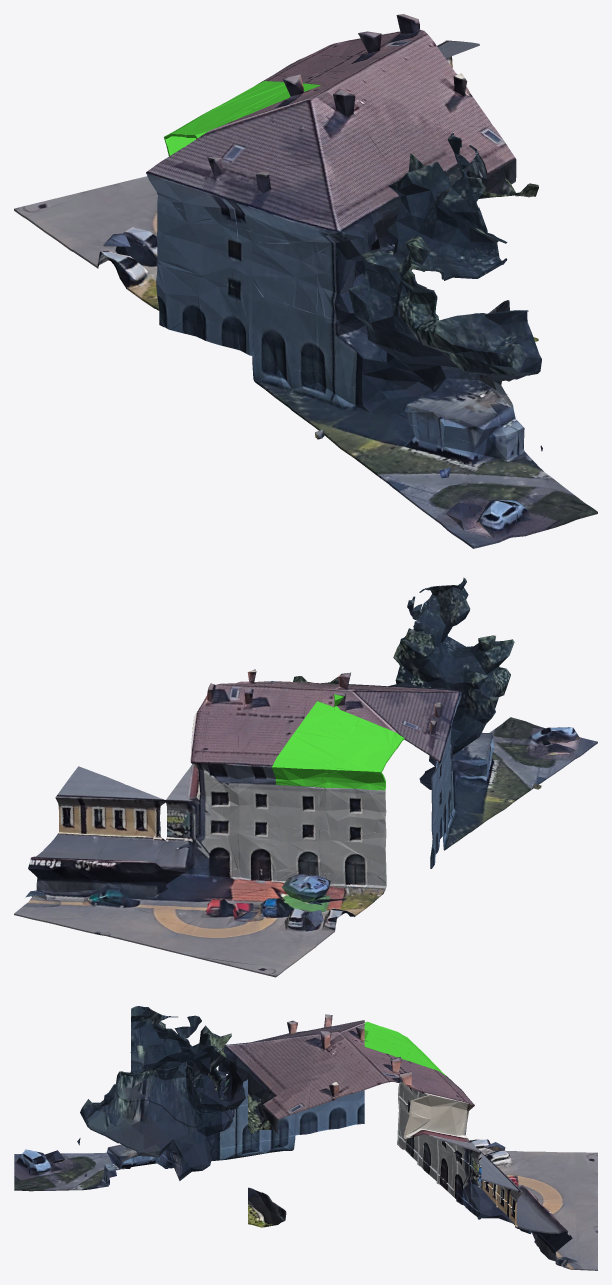
Rendered from house.fbx.
The picture shows the model from 3 angles, top to bottom: view 1: azimuth 30°, elevation 25°; view 2: azimuth 150°, elevation 25°; view 3: azimuth 270°, elevation 25°; orthographic projection. The views are drawn at different scales.
Parts seen in each view (by area): view 1: BuildingMesh-00076, BuildingMesh-00077, BuildingMesh-00097, BuildingMesh-00079, BuildingMesh-00044, BuildingMesh-00090, BuildingMesh-00043, BuildingMesh-00094, BuildingMesh-00096, BuildingMesh-00100, BuildingMesh-00078, BuildingMesh-00087 (+3 smaller); view 2: BuildingMesh-00083, BuildingMesh-00103, BuildingMesh-00087, BuildingMesh-00084, BuildingMesh-00077, BuildingMesh-00089, BuildingMesh-00100, BuildingMesh-00081, BuildingMesh-00080, BuildingMesh-00044, BuildingMesh-00076, BuildingMesh-00101 (+8 smaller); view 3: BuildingMesh-00097, BuildingMesh-00079, BuildingMesh-00077, BuildingMesh-00087, BuildingMesh-00100, BuildingMesh-00044, BuildingMesh-00076, BuildingMesh-00083, BuildingMesh-00043, BuildingMesh-00084, BuildingMesh-00081, BuildingMesh-00090 (+9 smaller).
Boxes of the visible parts, x1,y1,x2,y2 form: BuildingMesh-00076: (198,74,400,252); BuildingMesh-00077: (306,133,507,313); BuildingMesh-00097: (316,247,507,434); BuildingMesh-00079: (323,60,538,198); BuildingMesh-00044: (381,433,597,548); BuildingMesh-00090: (156,202,253,355); BuildingMesh-00043: (419,310,541,476); BuildingMesh-00094: (289,376,444,478); BuildingMesh-00096: (251,233,319,375); BuildingMesh-00100: (14,178,157,268); BuildingMesh-00078: (146,138,266,232); BuildingMesh-00087: (258,14,446,84); BuildingMesh-00083: (28,766,165,881); BuildingMesh-00103: (276,785,386,894); BuildingMesh-00087: (190,683,316,784); BuildingMesh-00084: (165,764,277,870); BuildingMesh-00077: (388,577,514,705); BuildingMesh-00089: (272,694,404,790); BuildingMesh-00100: (188,899,340,977); BuildingMesh-00081: (101,878,243,955); BuildingMesh-00080: (14,876,146,935); BuildingMesh-00044: (489,717,597,786); BuildingMesh-00076: (317,672,457,737); BuildingMesh-00101: (253,871,386,921); BuildingMesh-00097: (131,1061,247,1169); BuildingMesh-00079: (247,1042,364,1133); BuildingMesh-00077: (130,1006,247,1095); BuildingMesh-00087: (364,1047,474,1135); BuildingMesh-00100: (481,1139,597,1191); BuildingMesh-00044: (14,1141,132,1191); BuildingMesh-00076: (248,1020,364,1076); BuildingMesh-00083: (480,1152,572,1250); BuildingMesh-00043: (77,1071,131,1173); BuildingMesh-00084: (403,1122,481,1212); BuildingMesh-00081: (481,1177,597,1229); BuildingMesh-00090: (294,1090,364,1135).
Bounding box in the file's own units: 259 × 163 × 485.
24 materials, 23 textured.
